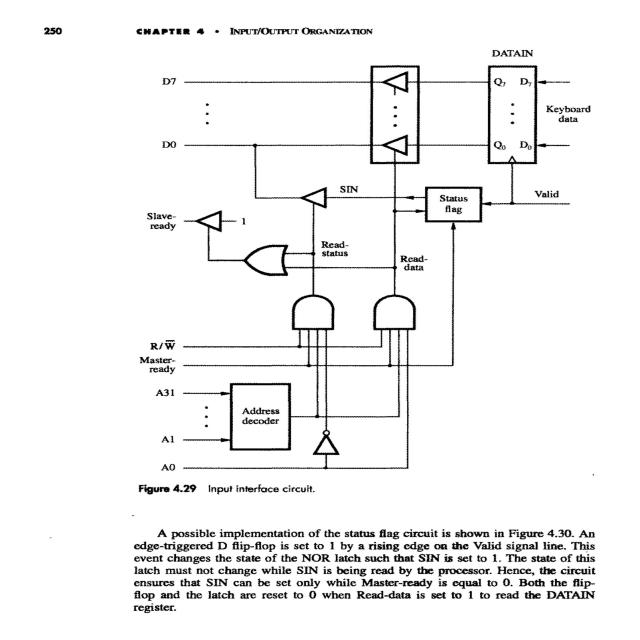diagram: (126, 44, 627, 506)
